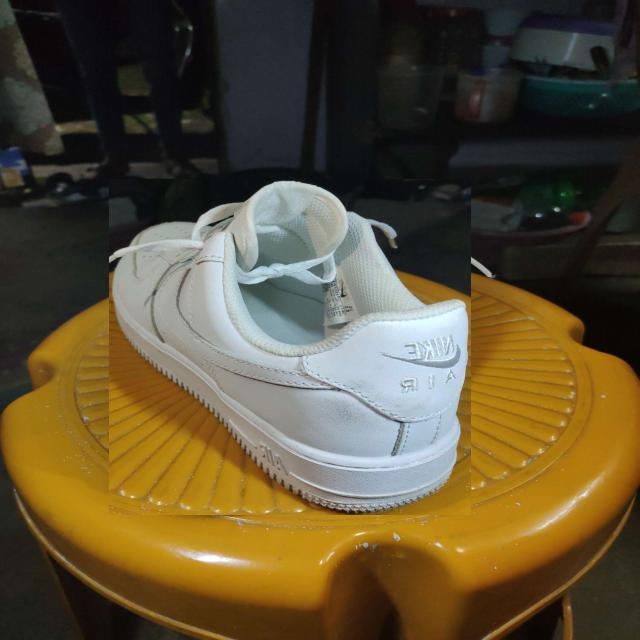shoe: (109, 179, 471, 515)
